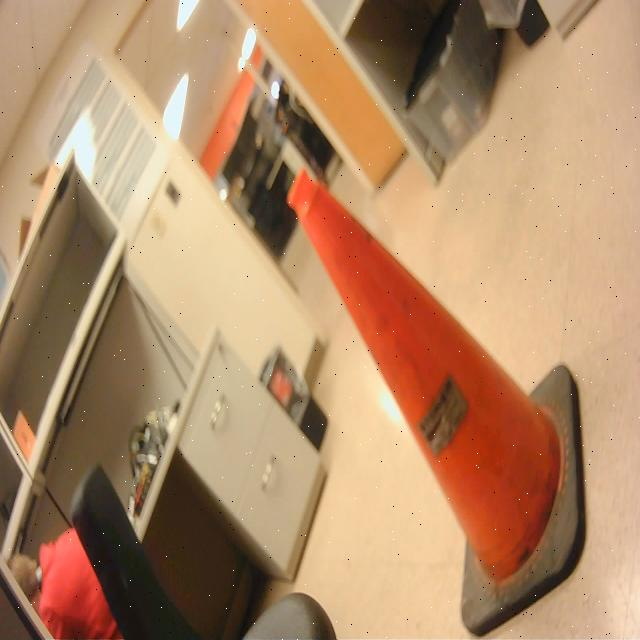traffic cone: (283, 162, 597, 640)
